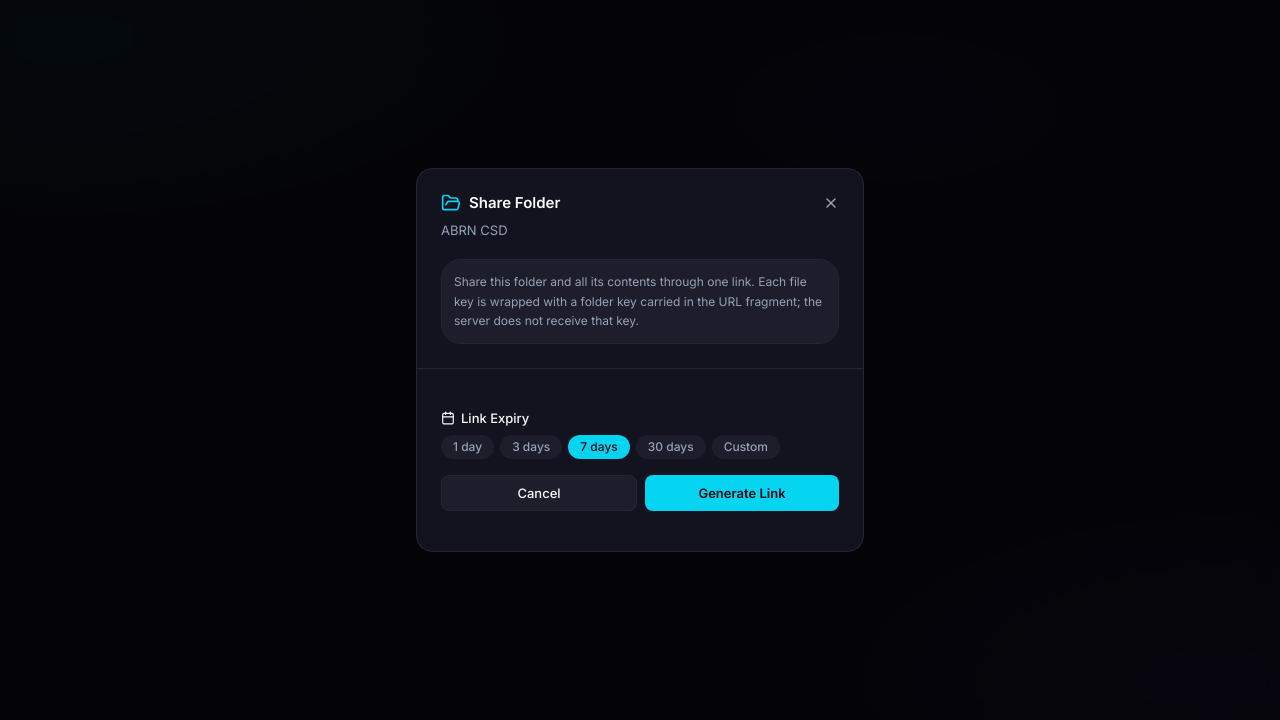
Test: CreateFolderShareLinkModal › falls back to a manual pin prompt when an auto-used cached pin fails
Click the button "Generate Link" at {"x": 742, "y": 493}, box [645,475,839,511]
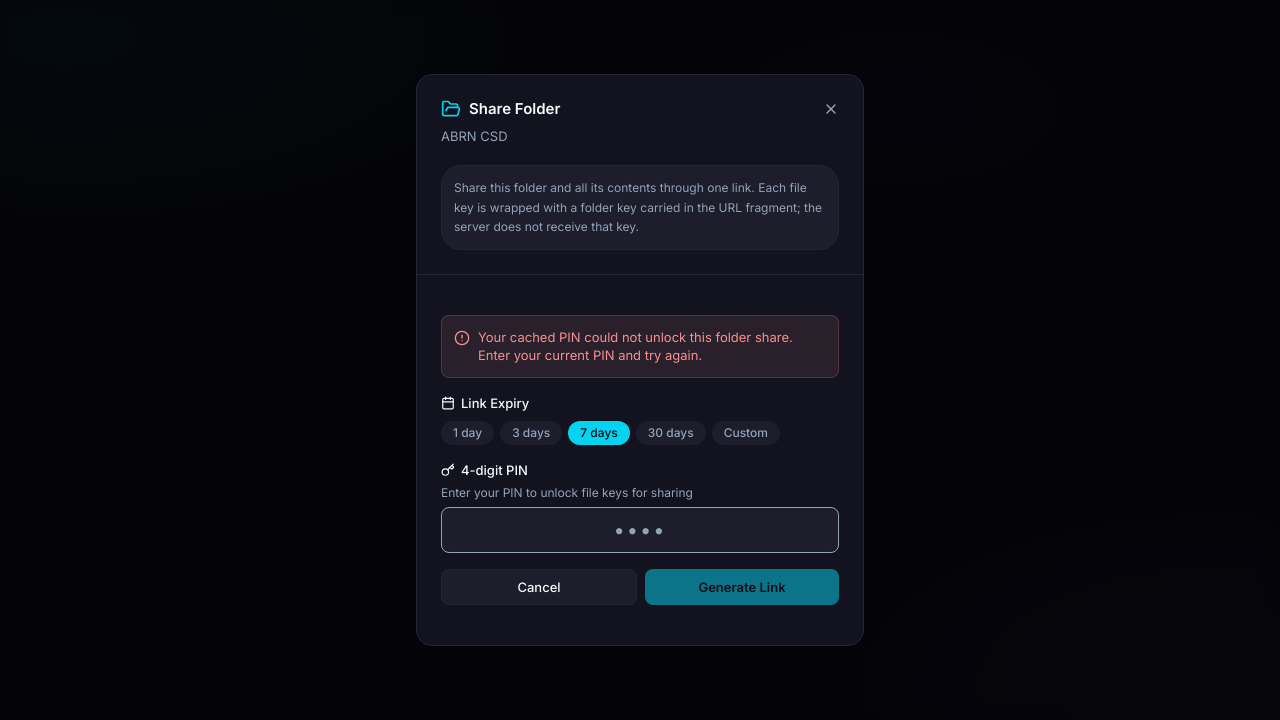
Check: the text "Your cached PIN could not unlock this folder share. Enter your current PIN and try again." is shown, box [478,329,793,364]
Check: the password field labelled "4-digit PIN" is shown, box [441,507,839,553]
